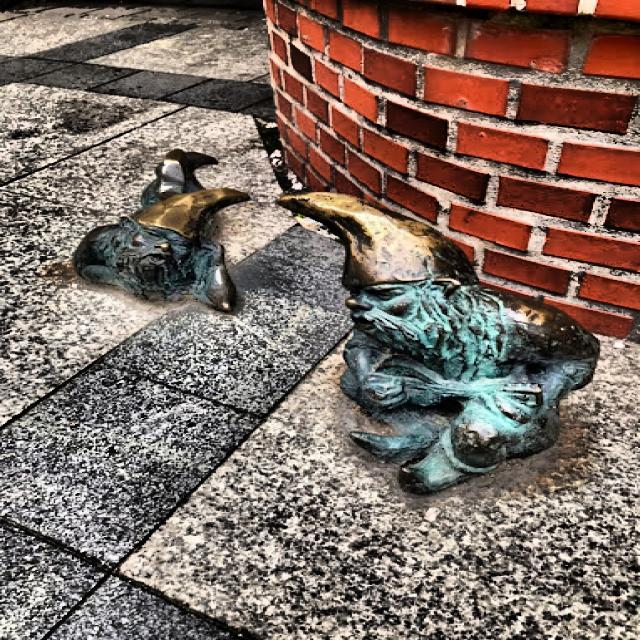Grajek_i_Meloman: (72, 149, 601, 497)
